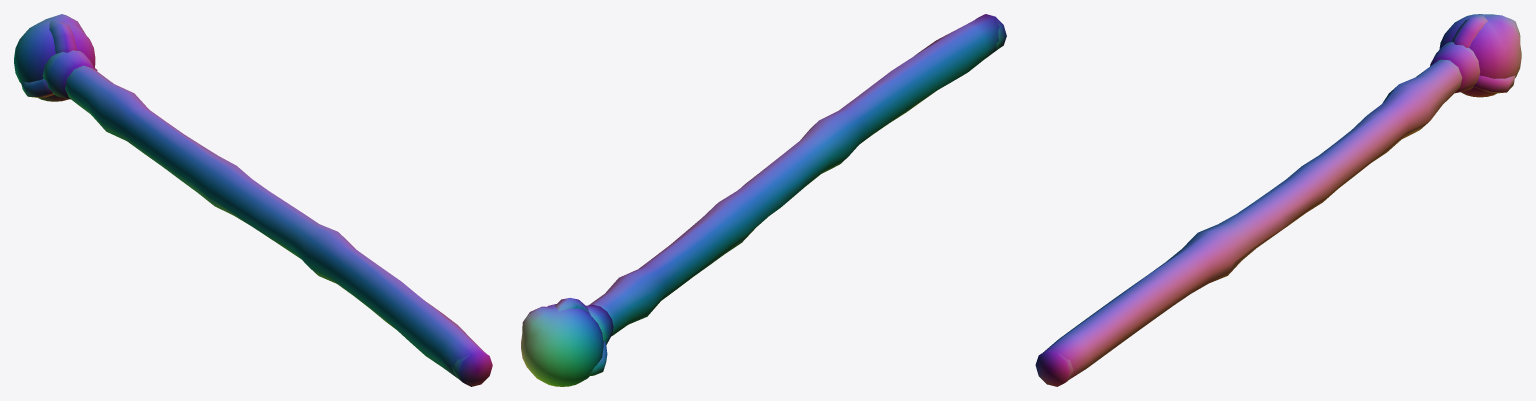
File: SM_NPCKit_Prop_Staff.fbx
3 renders of one model, left to right at view 1: azimuth 30°, elevation 25°; view 2: azimuth 150°, elevation 25°; view 3: azimuth 330°, elevation 25°, orthographic.
Parts seen in each view (by area): view 1: SM_NPCKit_Prop_Staff; view 2: SM_NPCKit_Prop_Staff; view 3: SM_NPCKit_Prop_Staff.
Part boxes in pixels (bbox=[...]): SM_NPCKit_Prop_Staff: bbox=[14, 14, 492, 386]; SM_NPCKit_Prop_Staff: bbox=[521, 14, 1006, 386]; SM_NPCKit_Prop_Staff: bbox=[1035, 14, 1521, 386].
Bounding box in the file's own units: 0.1723 × 0.1822 × 1.84.
